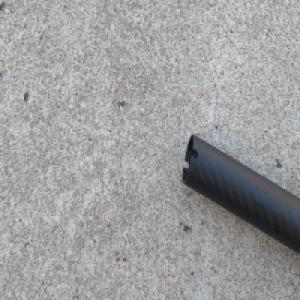LuggagePart: (180, 128, 300, 257)
